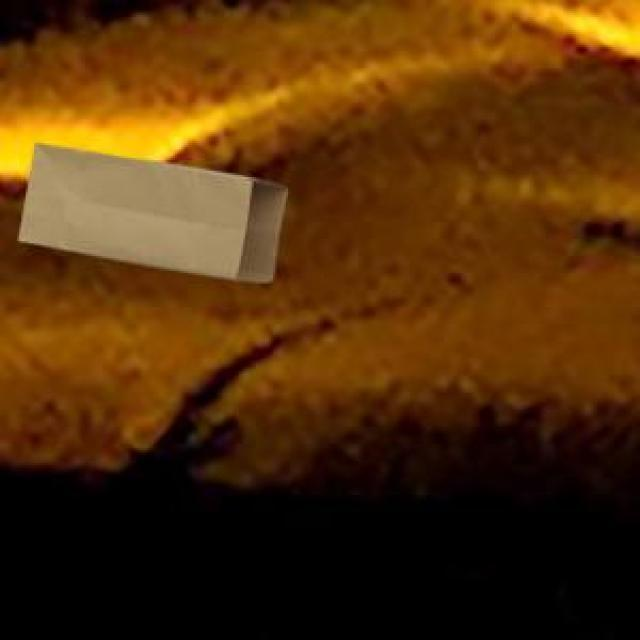paper: (15, 141, 283, 277)
